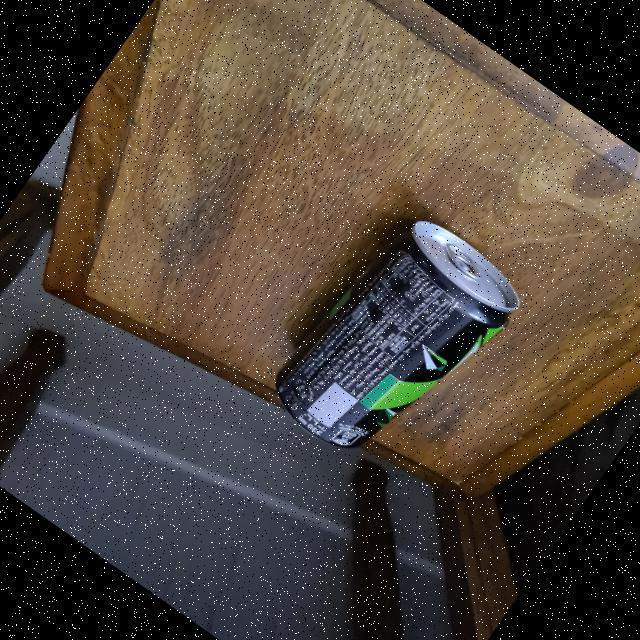can: (246, 182, 546, 501)
